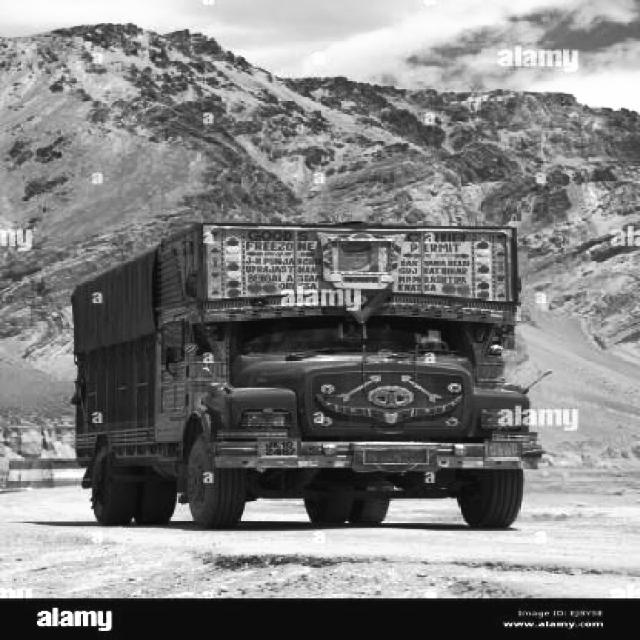HCV: (83, 271, 530, 509)
